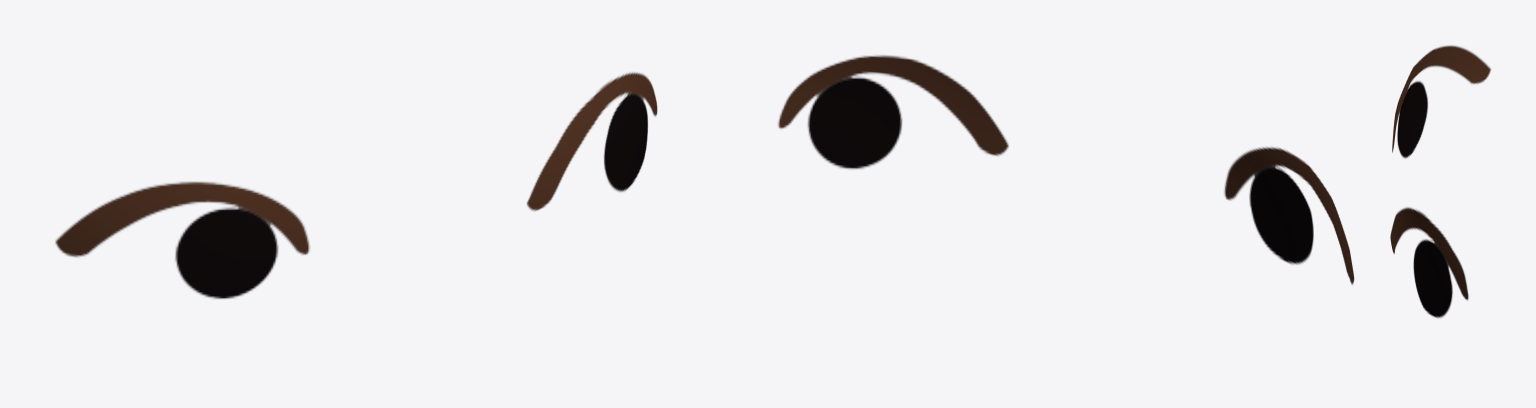
Rendered from eye 05.glb.
3 renders of one model, left to right at view 1: azimuth 30°, elevation 25°; view 2: azimuth 150°, elevation 25°; view 3: azimuth 270°, elevation 25°, orthographic. The views are drawn at different scales.
Visible parts, largest first — view 1: Eye_5; view 2: Eye_5; view 3: Eye_5.
Boxes of the visible parts, bbox=[...] form: Eye_5: bbox=[55, 71, 657, 299]; Eye_5: bbox=[777, 55, 1354, 285]; Eye_5: bbox=[1390, 45, 1490, 318].
Bounding box in the file's own units: 0.00677 × 0.00271 × 0.00151.
1 material, 1 textured.
